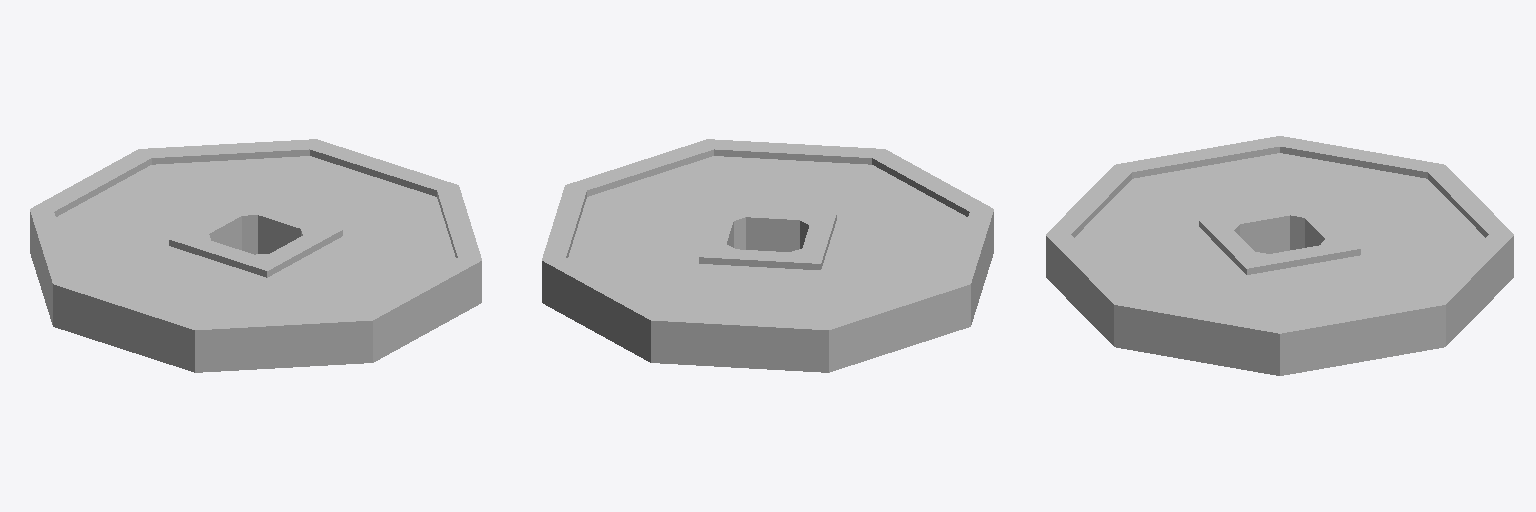
Rendered from coin-4.obj.
The picture shows the model from 3 angles: view 1: azimuth 30°, elevation 25°; view 2: azimuth 150°, elevation 25°; view 3: azimuth 270°, elevation 25°; orthographic projection.
Visible parts, largest first — view 1: coin_Cylinder; view 2: coin_Cylinder; view 3: coin_Cylinder.
Boxes of the visible parts, x1=… form: coin_Cylinder: x1=30, y1=139, x2=481, y2=372; coin_Cylinder: x1=542, y1=139, x2=993, y2=372; coin_Cylinder: x1=1046, y1=136, x2=1513, y2=375.
Size of the model in its own units: 20 by 2 by 20.